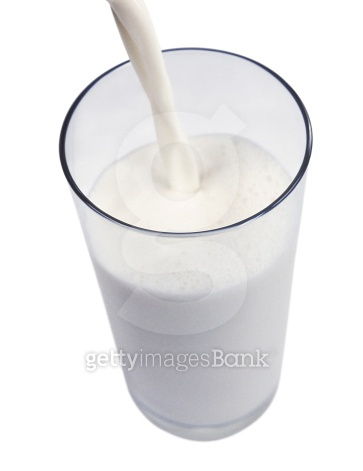glass of milk: (65, 39, 303, 446)
